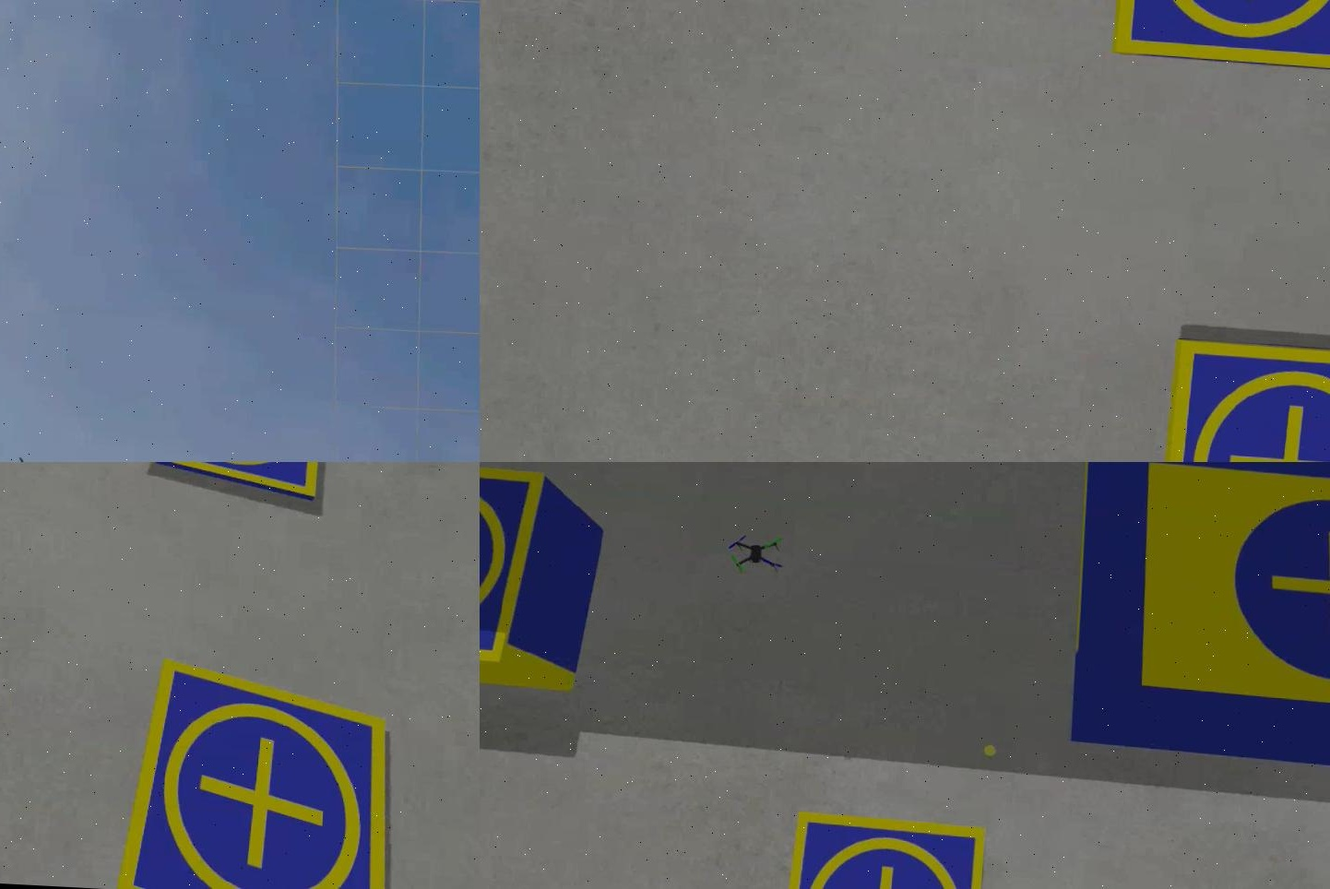large_base: (1065, 462, 1328, 776)
small_base: (119, 656, 402, 889), (1155, 338, 1328, 462), (775, 810, 983, 889), (1109, 1, 1328, 74), (479, 462, 546, 668), (130, 462, 327, 505)
